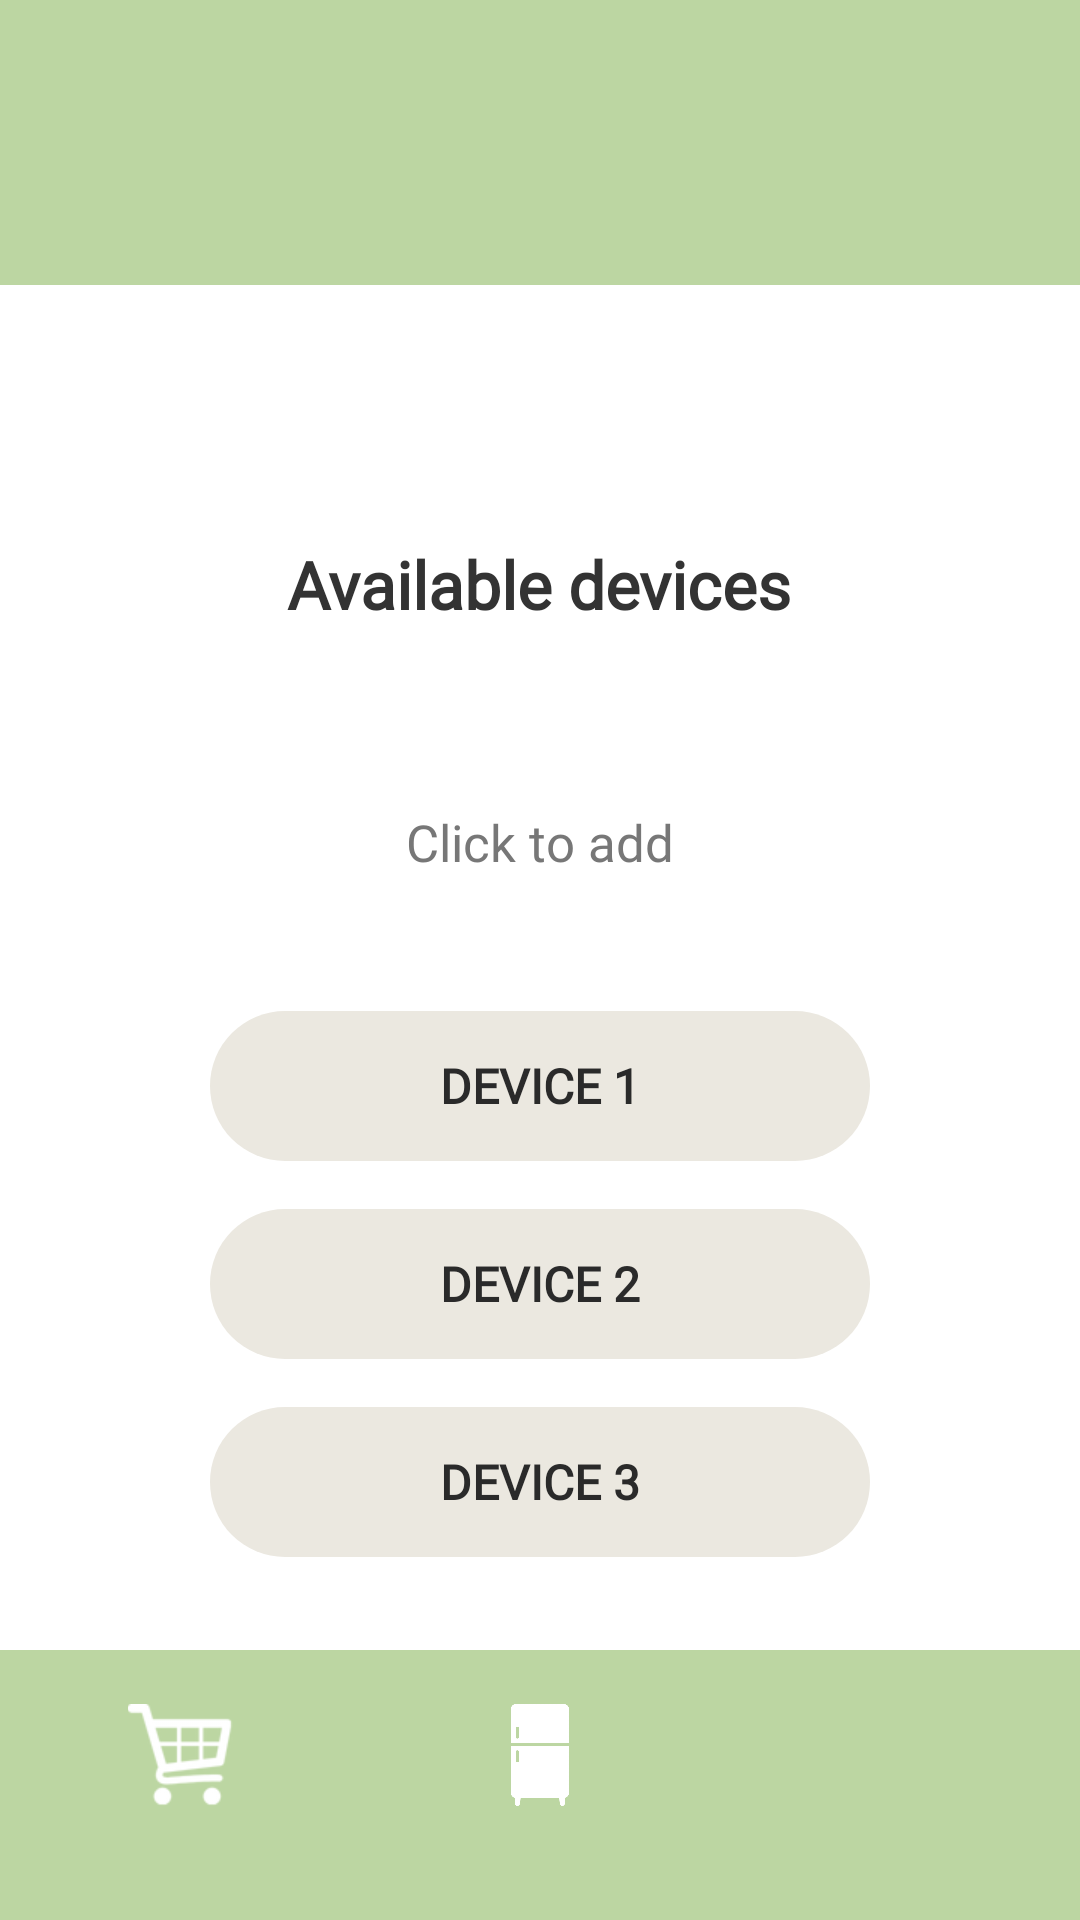

Named icons in this screenshot (1080w x 1920h) and their bounding boxes, (x1, y1, x2, y2):
cart: (128, 1704, 231, 1805)
fridge: (511, 1704, 569, 1806)
